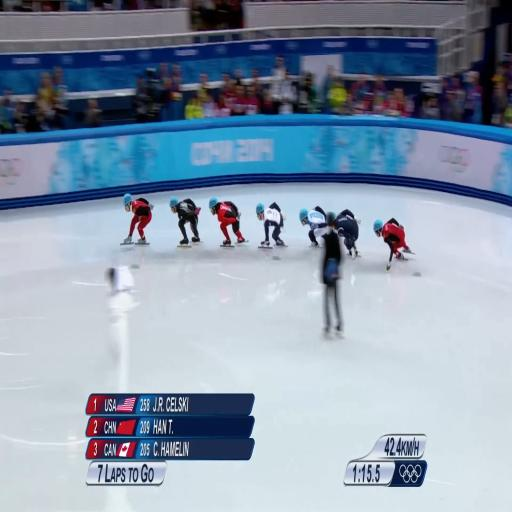Skater: (374, 219, 413, 272), (209, 198, 245, 246), (122, 194, 153, 245), (170, 197, 200, 246), (256, 203, 285, 247), (335, 210, 360, 258), (300, 207, 327, 246)
